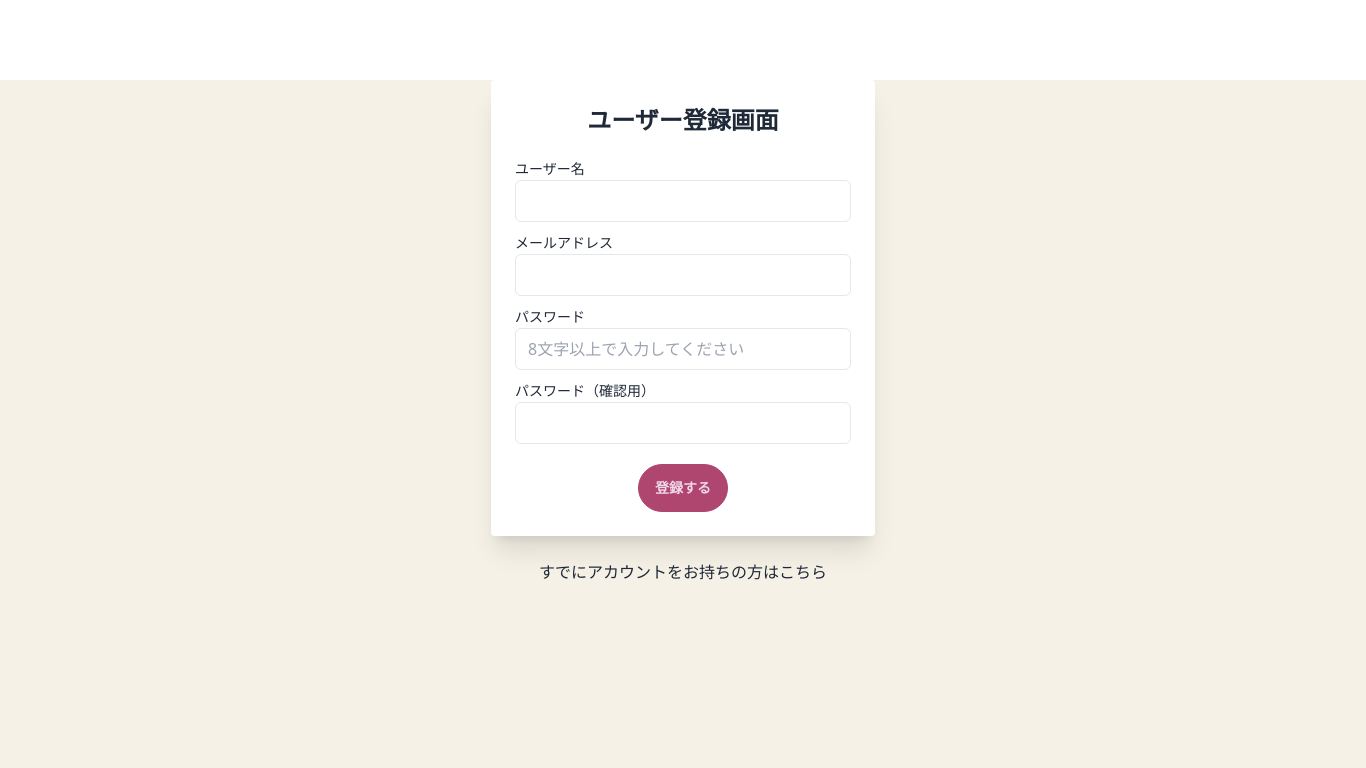
it: Registerコンポーネントのテスト › エラー時のテスト › バリデーションエラー時のテスト › パスワード（確認用）のバリデーションエラー › パスワード（確認用）が8文字未満の場合
The image size is (1366, 768).
In the password field labelled "パスワード（確認用）": (683, 423) top-left (515, 402), bottom-right (851, 444), type "short"
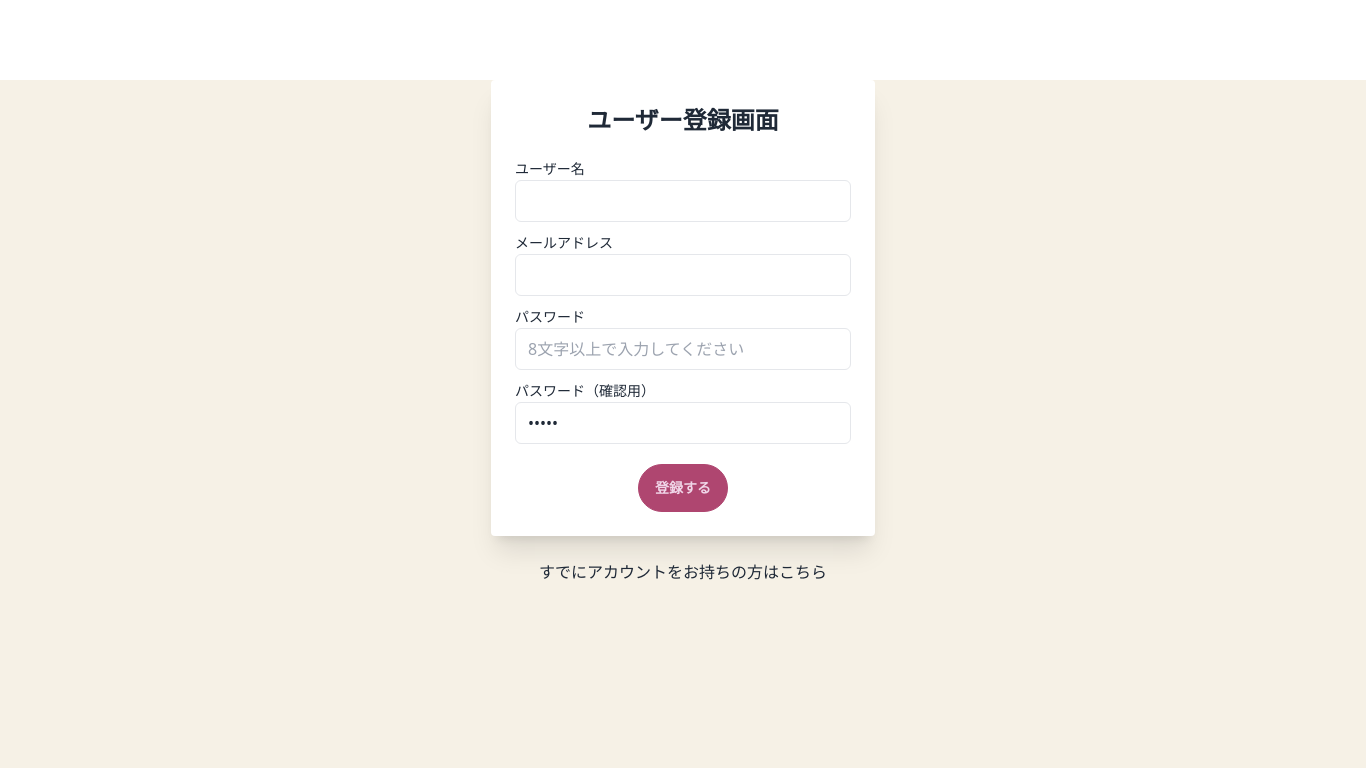
Click the button "登録する": (683, 488) top-left (638, 464), bottom-right (728, 512)
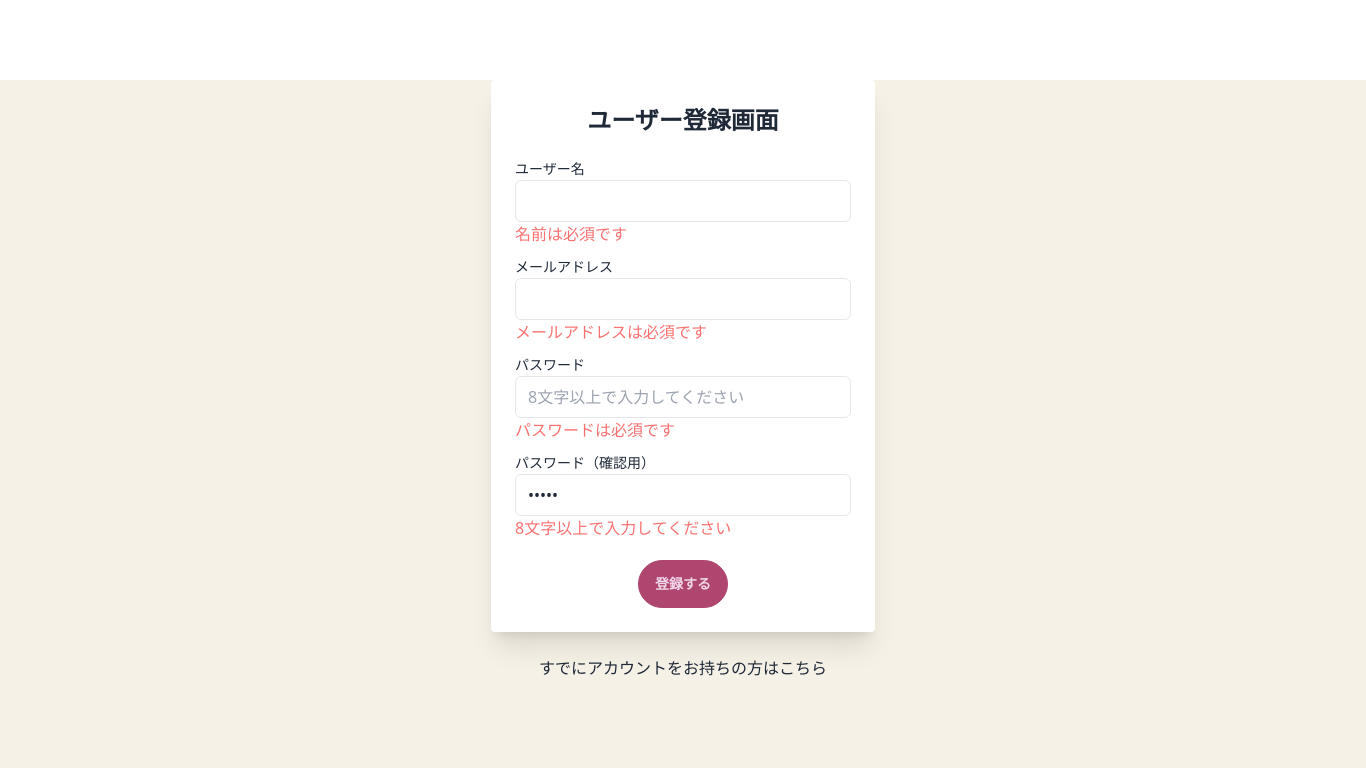
Check: the text "8文字以上で入力してください" is shown, box top-left (515, 517), bottom-right (731, 539)
